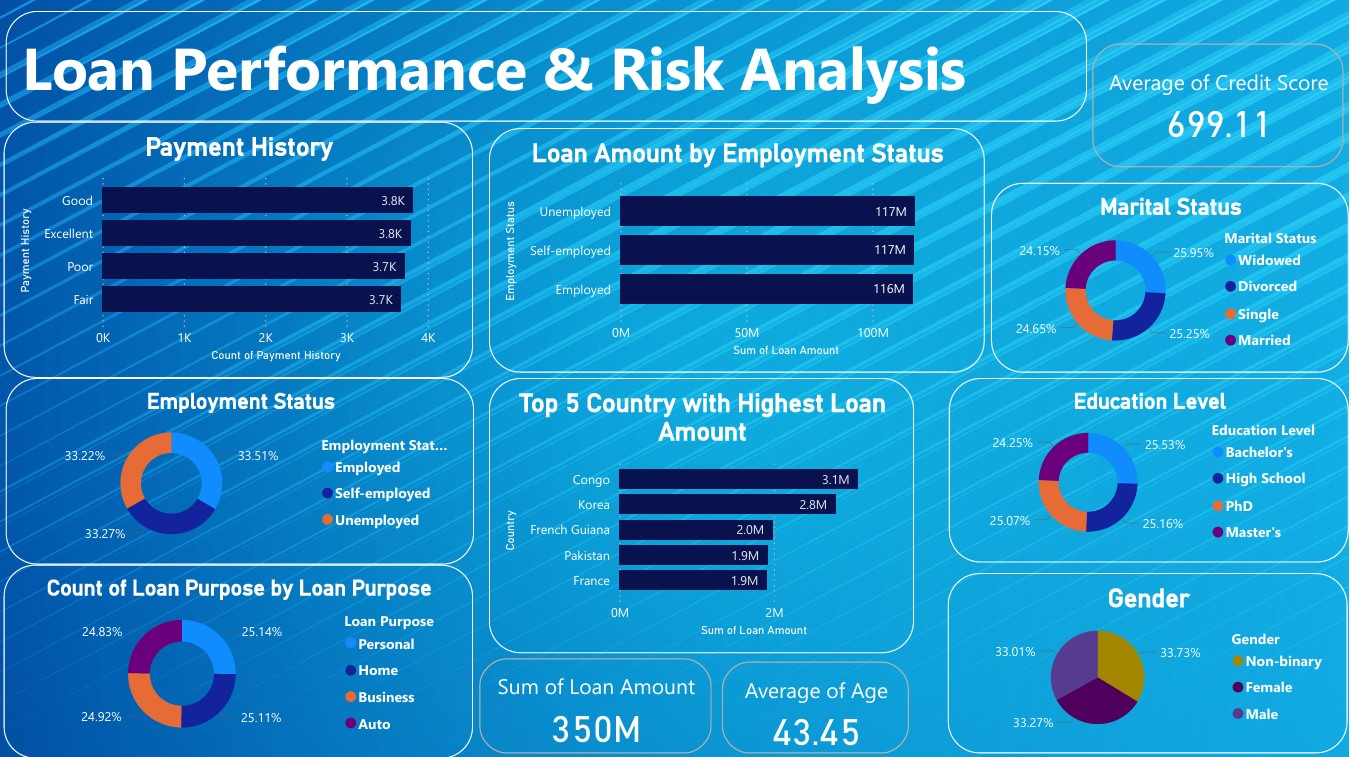

The page's visual inventory and layout, read from the dashboard file:
{"tool":"powerbi","page":{"name":"Page 1","canvas":[1280,720],"ordinal":0},"visuals":[{"type":"pieChart","title":"Gender","fields":{"Y":["CountNonNull(financial_risk_assessment.Gender)"],"Category":["financial_risk_assessment.Gender"]},"box":[900,543.8,378.8,171.2],"z":0},{"type":"donutChart","title":"Marital Status","fields":{"Y":["CountNonNull(financial_risk_assessment.Marital Status)"],"Category":["financial_risk_assessment.Marital Status"]},"box":[940.5,174.3,339.2,179.7],"z":1000},{"type":"donutChart","title":"Education Level","fields":{"Y":["CountNonNull(financial_risk_assessment.Education Level)"],"Category":["financial_risk_assessment.Education Level"]},"box":[901.4,359.5,378.4,174.3],"z":2000},{"type":"donutChart","title":"Employment Status","fields":{"Y":["CountNonNull(financial_risk_assessment.Employment Status)"],"Category":["financial_risk_assessment.Employment Status"]},"box":[6.8,359.5,444.6,177],"z":3000},{"type":"cardVisual","fields":{"Data":["Sum(financial_risk_assessment.Loan Amount)"]},"box":[451.4,620.3,229.7,100],"z":4000},{"type":"barChart","title":"Loan Amount by Employment Status","fields":{"Category":["financial_risk_assessment.Employment Status"],"Y":["Sum(financial_risk_assessment.Loan Amount)"]},"box":[464.9,121.6,470.3,232.4],"z":5000},{"type":"barChart","title":"Payment History","fields":{"Category":["financial_risk_assessment.Payment History"],"Y":["CountNonNull(financial_risk_assessment.Payment History)"]},"box":[5.4,116.2,444.6,243.2],"z":6000},{"type":"clusteredBarChart","title":"Top 5 Country with Highest Loan Amount","fields":{"Category":["financial_risk_assessment.Country"],"Y":["Sum(financial_risk_assessment.Loan Amount)"]},"box":[464.9,359.5,402.7,260.8],"z":7000},{"type":"textbox","box":[7.2,10.9,1024.3,105],"z":8000},{"type":"donutChart","fields":{"Category":["financial_risk_assessment.Loan Purpose"],"Y":["CountNonNull(financial_risk_assessment.Loan Purpose)"]},"box":[5.4,536.5,444.6,183.8],"z":9000},{"type":"cardVisual","fields":{"Data":["Avg(financial_risk_assessment.Age)"]},"box":[681.1,623,186.5,97.3],"z":10000},{"type":"cardVisual","fields":{"Data":["Avg(financial_risk_assessment.Credit Score)"]},"box":[1031.5,37.4,248.5,126.7],"z":11000}]}

Visuals, with their boxes in screenshot pixels (x1, y1, x2, y2), scaled from the page's 1280x720 canvas onto the 1351x757 screenshot:
"Gender" pieChart: BBox(950, 572, 1350, 752)
"Marital Status" donutChart: BBox(993, 183, 1350, 372)
"Education Level" donutChart: BBox(951, 378, 1350, 561)
"Employment Status" donutChart: BBox(7, 378, 476, 564)
cardVisual - Sum(financial_risk_assessment.Loan Amount): BBox(476, 652, 719, 756)
"Loan Amount by Employment Status" barChart: BBox(491, 128, 987, 372)
"Payment History" barChart: BBox(6, 122, 475, 378)
"Top 5 Country with Highest Loan Amount" clusteredBarChart: BBox(491, 378, 916, 652)
textbox: BBox(8, 11, 1089, 122)
donutChart - financial_risk_assessment.Loan Purpose x CountNonNull(financial_risk_assessment.Loan Purpose): BBox(6, 564, 475, 756)
cardVisual - Avg(financial_risk_assessment.Age): BBox(719, 655, 916, 756)
cardVisual - Avg(financial_risk_assessment.Credit Score): BBox(1089, 39, 1350, 173)
